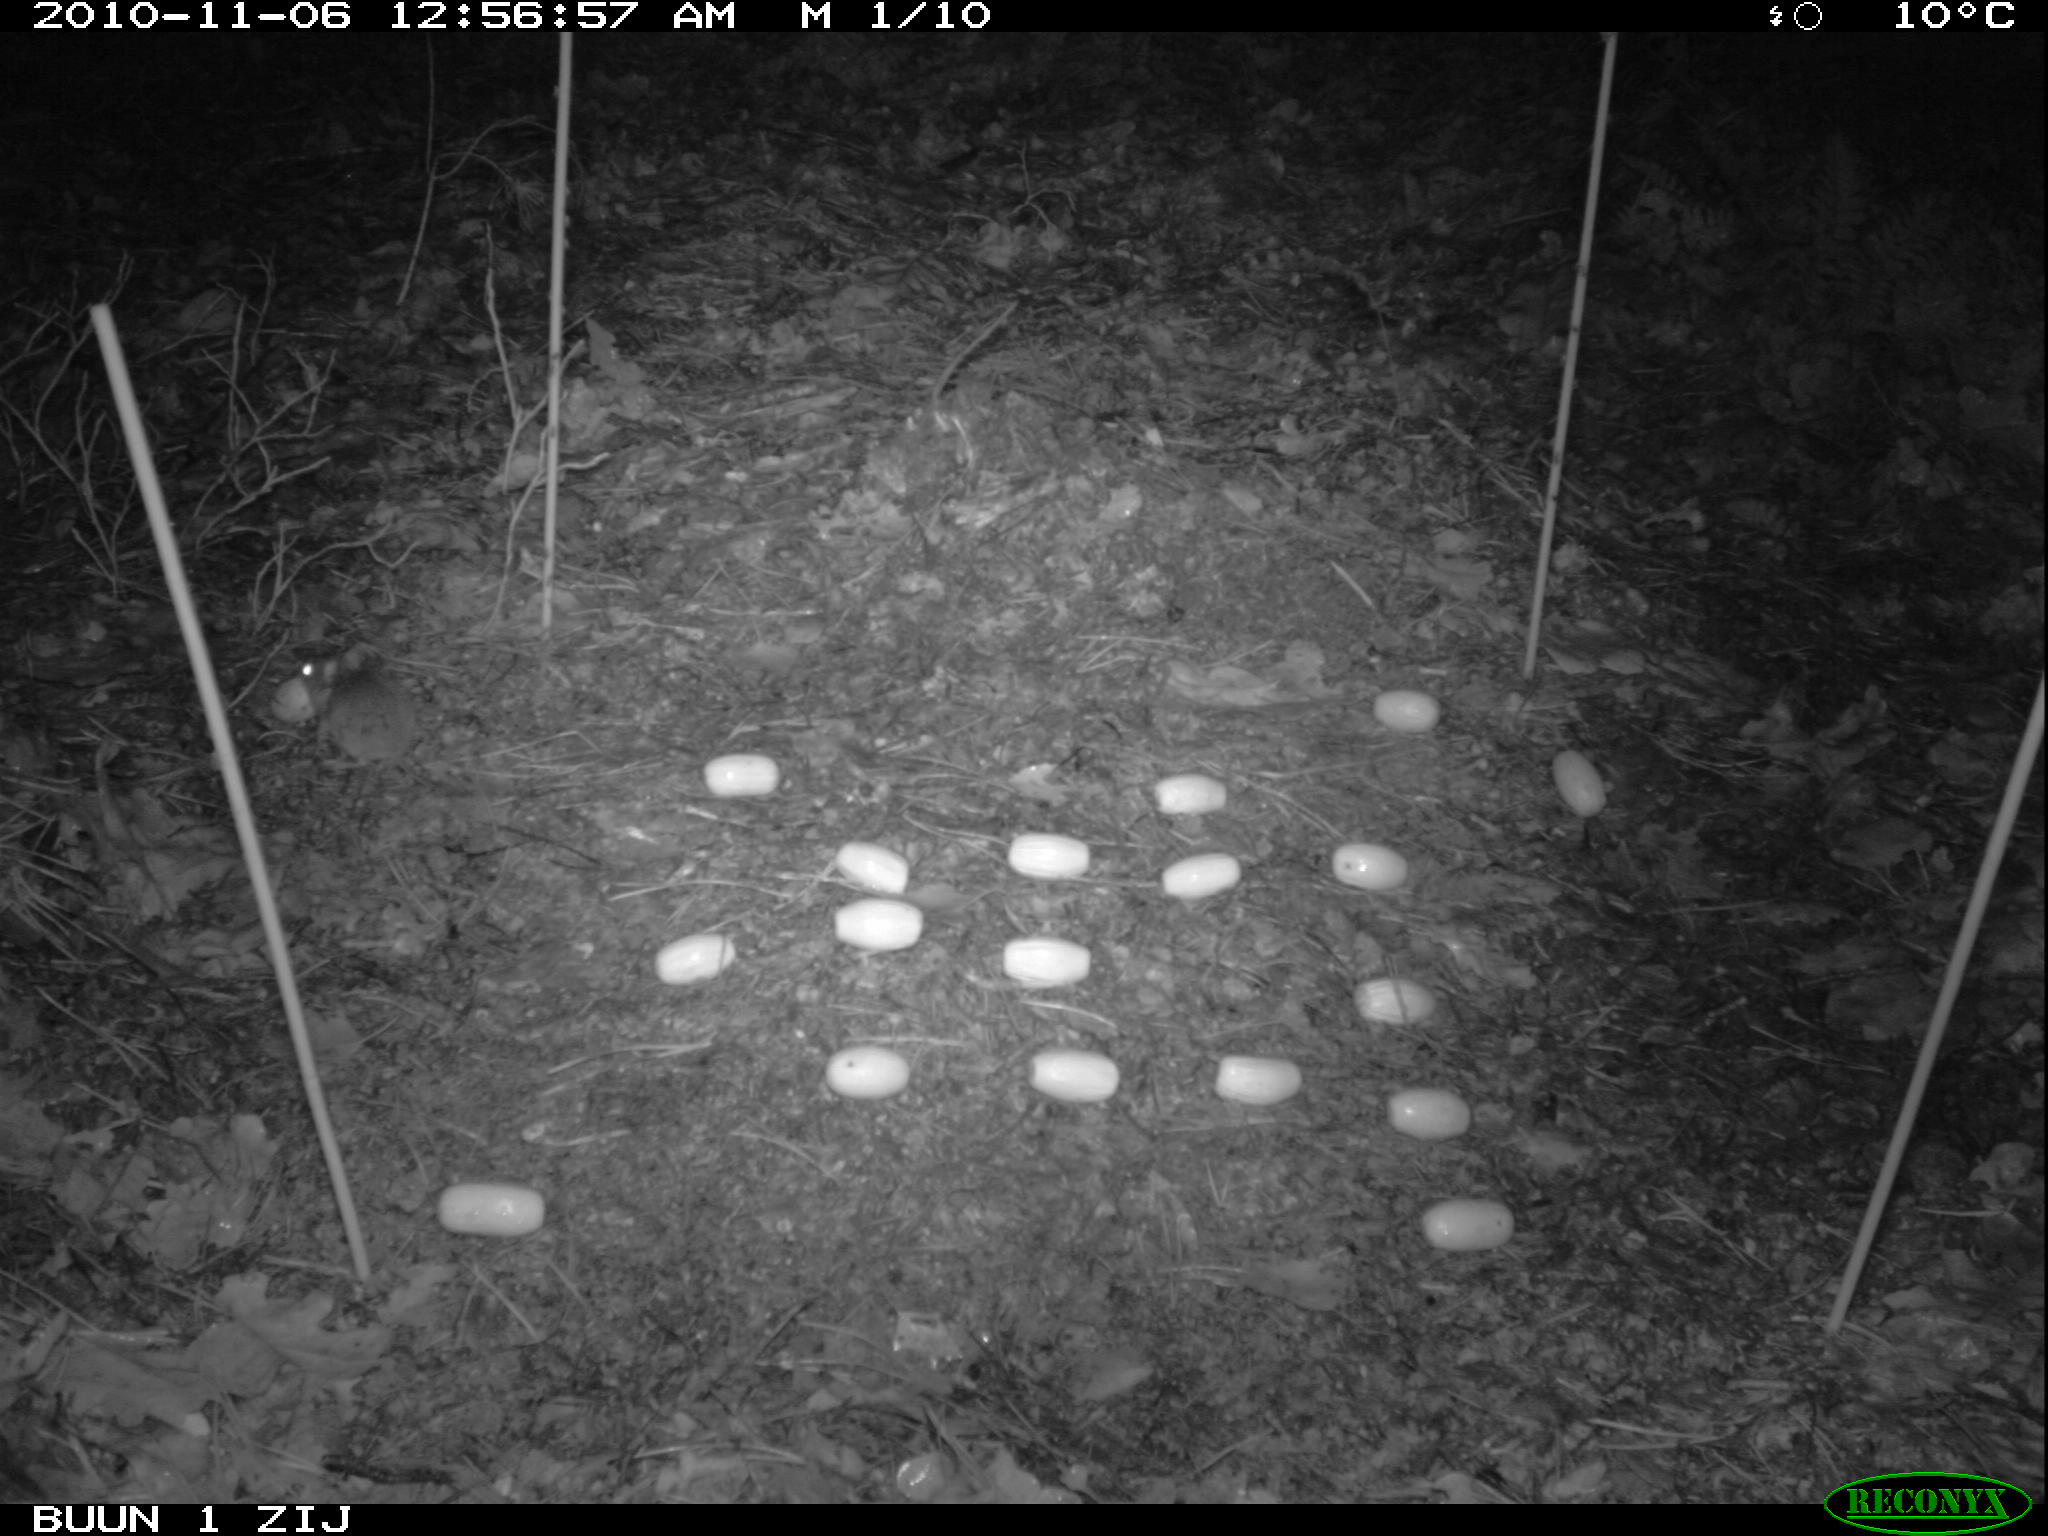Rodent: (293, 628, 427, 786)
